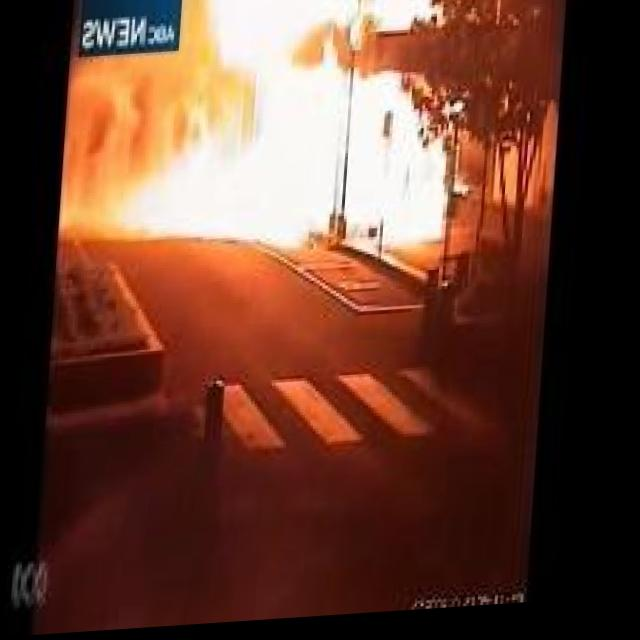fire: (131, 0, 468, 275)
